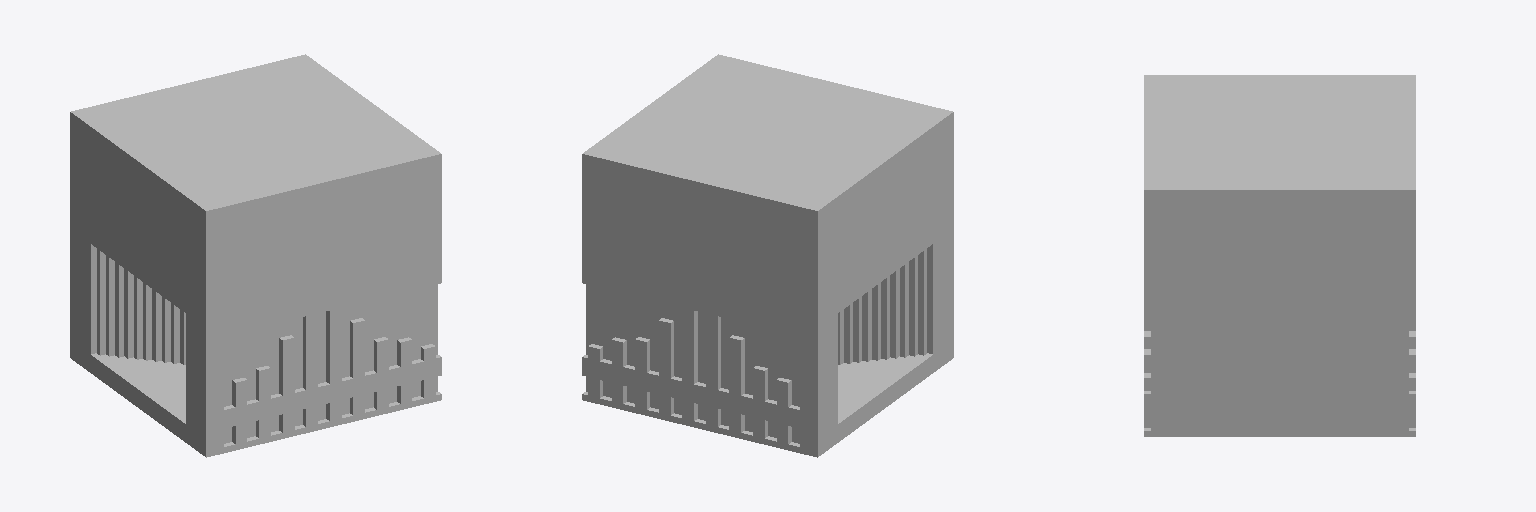
File: Factory Bits-3-ProcessorInput.obj
The picture shows the model from 3 angles: view 1: azimuth 30°, elevation 25°; view 2: azimuth 150°, elevation 25°; view 3: azimuth 270°, elevation 25°; orthographic projection.
Visible parts, largest first — view 1: ProcessorInput; view 2: ProcessorInput; view 3: ProcessorInput.
Boxes of the visible parts, box(x1,y1,x2,y2) form: ProcessorInput: box(70, 54, 441, 457); ProcessorInput: box(582, 54, 953, 457); ProcessorInput: box(1144, 75, 1415, 436).
Bounding box in the file's own units: 4 × 4 × 4.